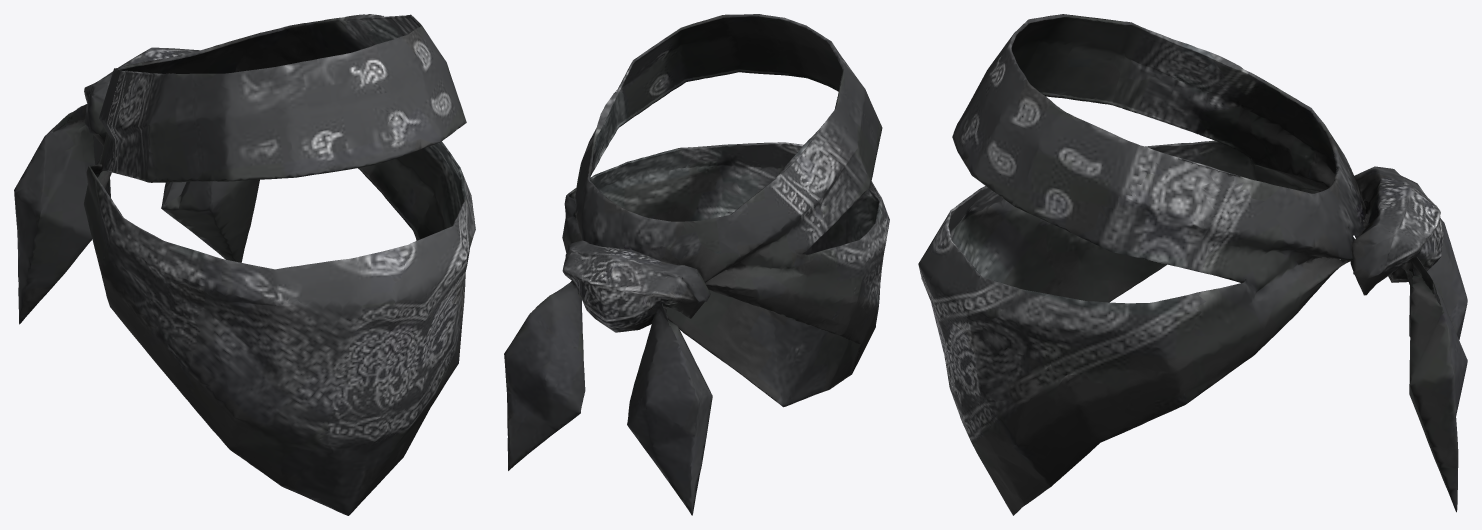
Rendered from mascara_bandana.glb.
3 renders of one model, left to right at view 1: azimuth 30°, elevation 25°; view 2: azimuth 150°, elevation 25°; view 3: azimuth 270°, elevation 25°, orthographic. The views are drawn at different scales.
Visible parts, largest first — view 1: tripo_node_0d3e9237-d9d4-4f88-a3ea-6451a3539ec9; view 2: tripo_node_0d3e9237-d9d4-4f88-a3ea-6451a3539ec9; view 3: tripo_node_0d3e9237-d9d4-4f88-a3ea-6451a3539ec9.
Part boxes in pixels (bbox=[...]): tripo_node_0d3e9237-d9d4-4f88-a3ea-6451a3539ec9: bbox=[14, 14, 475, 515]; tripo_node_0d3e9237-d9d4-4f88-a3ea-6451a3539ec9: bbox=[504, 14, 889, 515]; tripo_node_0d3e9237-d9d4-4f88-a3ea-6451a3539ec9: bbox=[918, 14, 1467, 515].
Bounding box in the file's own units: 0.7112 × 0.9438 × 1.
Materials: 1 (1 with a texture image).
